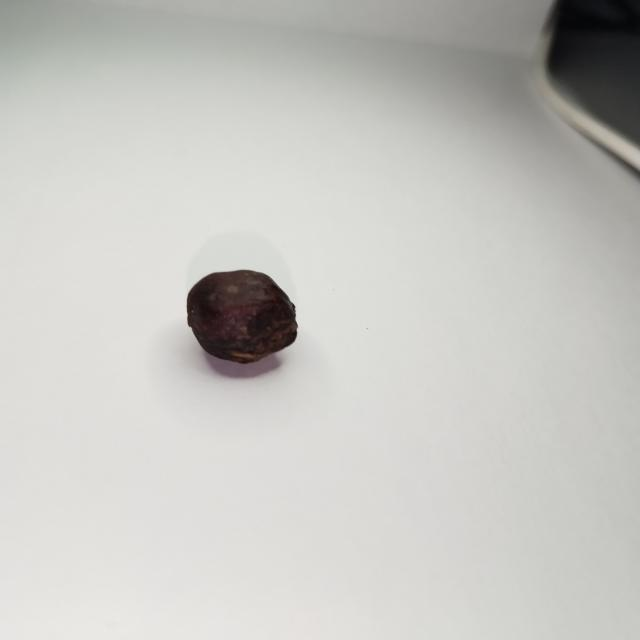Danado: (188, 270, 296, 362)
